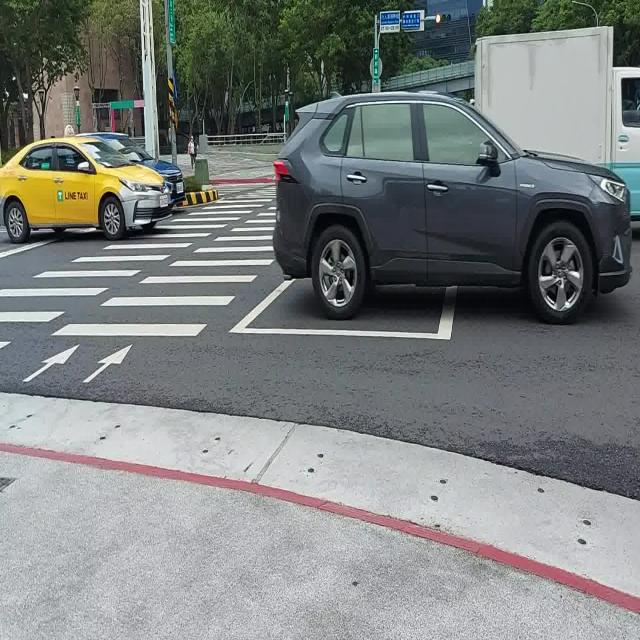car: (272, 91, 632, 324), (0, 138, 170, 242), (102, 136, 185, 204)
crosswalk: (0, 182, 276, 351), (46, 201, 276, 337)
trunk: (475, 27, 640, 219)
